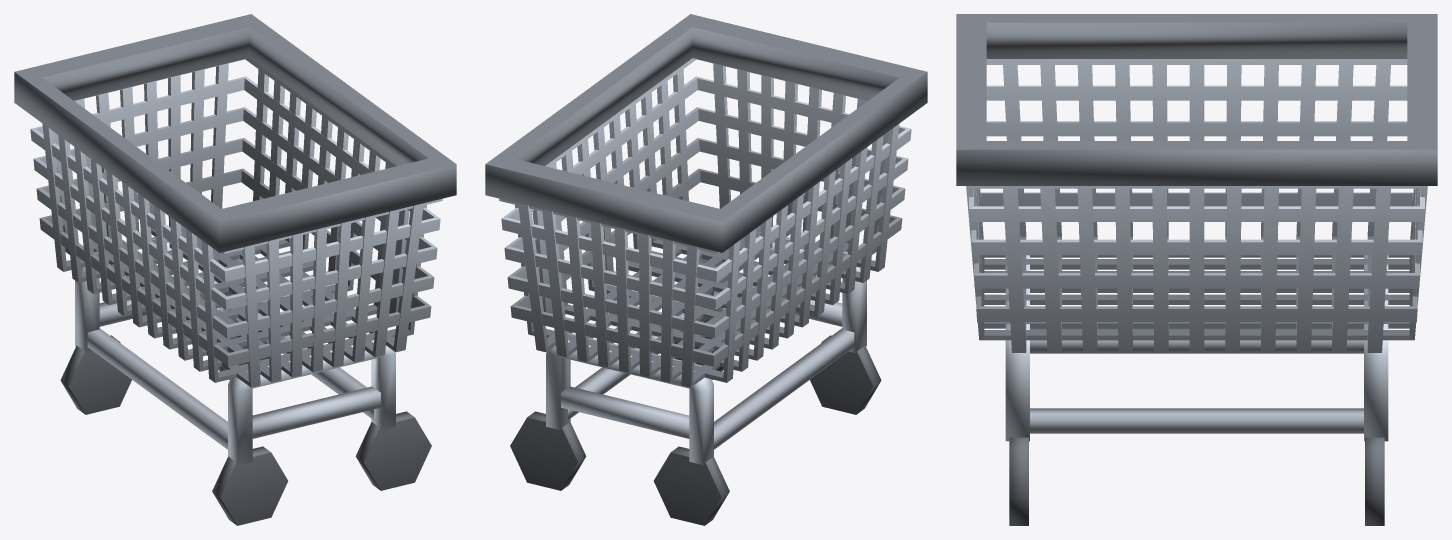
The model's file is Cart_Laundromat.fbx.
3 views of the same model, side by side, from view 1: azimuth 30°, elevation 25°; view 2: azimuth 150°, elevation 25°; view 3: azimuth 270°, elevation 25° (orthographic). The views are drawn at different scales.
Parts seen in each view (by area): view 1: Cart.Laundromat; view 2: Cart.Laundromat; view 3: Cart.Laundromat.
Boxes of the visible parts, x1,y1,x2,y2 form: Cart.Laundromat: (14, 14, 456, 525); Cart.Laundromat: (485, 14, 927, 525); Cart.Laundromat: (956, 14, 1437, 525).
Bounding box in the file's own units: 60 × 79.92 × 90.
Materials: 1 (1 with a texture image).
